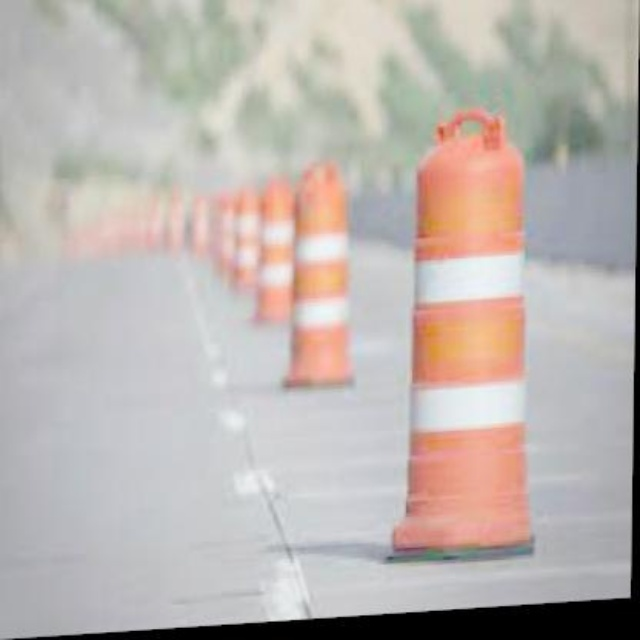obstacle: (396, 140, 533, 554), (287, 172, 347, 392)
